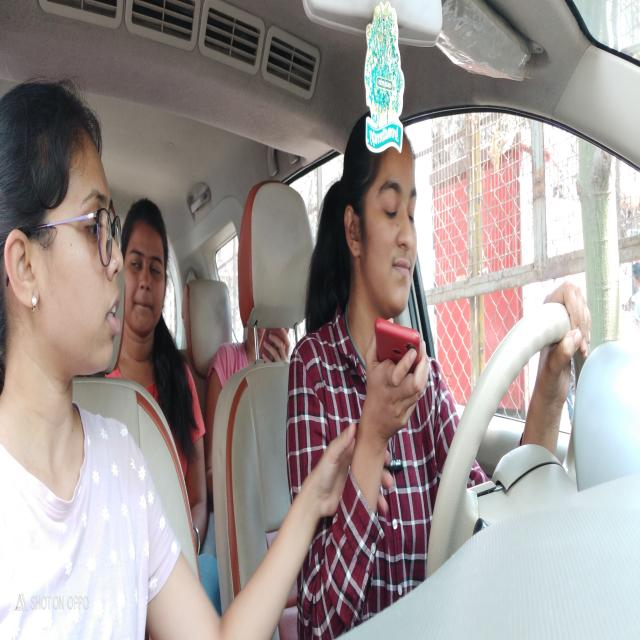mobile: (373, 321, 427, 382)
person: (1, 83, 129, 375), (342, 109, 428, 317), (123, 196, 176, 348), (237, 321, 296, 365)
